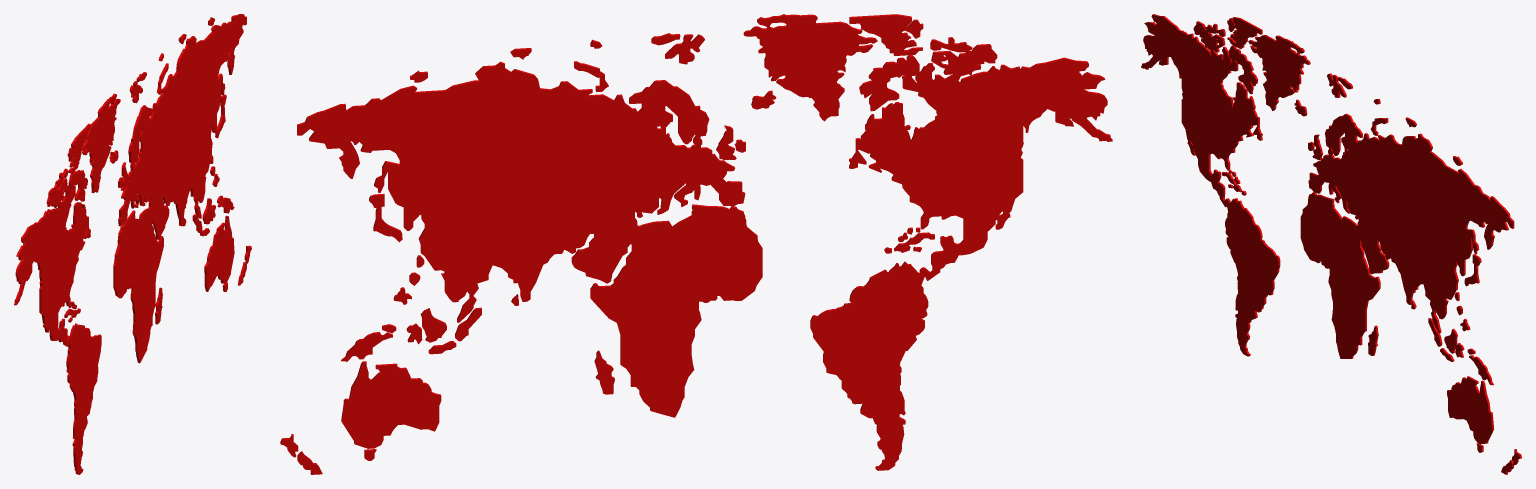
File: OM_Ground Floor_World Map.fbx
The picture shows the model from 3 angles, left to right: view 1: azimuth 30°, elevation 25°; view 2: azimuth 150°, elevation 25°; view 3: azimuth 270°, elevation 25°; orthographic projection. The views are drawn at different scales.
Visible parts, largest first — view 1: OM_Gfloor_World_Map; view 2: OM_Gfloor_World_Map; view 3: OM_Gfloor_World_Map.
Part boxes in pixels (<box>): OM_Gfloor_World_Map: <box>14,14,251,474</box>; OM_Gfloor_World_Map: <box>280,14,1112,474</box>; OM_Gfloor_World_Map: <box>1141,14,1521,474</box>.
Bounding box in the file's own units: 525 × 402 × 410.
